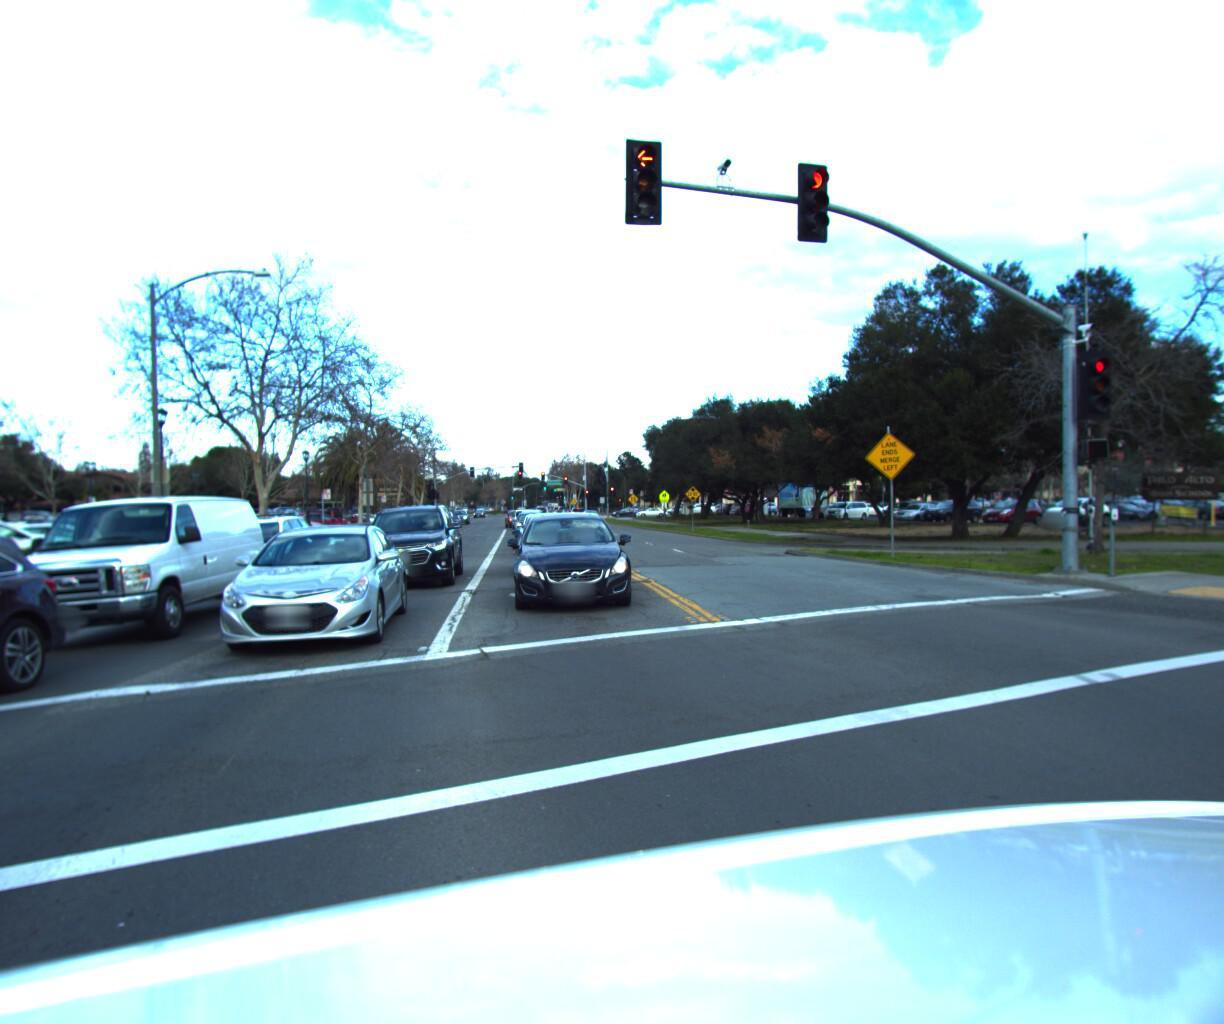car: (0, 490, 281, 665), (185, 517, 413, 667), (0, 516, 86, 869), (500, 506, 651, 616), (169, 508, 324, 605), (345, 499, 462, 597), (0, 516, 142, 569), (510, 507, 612, 579), (0, 513, 90, 582), (522, 506, 585, 558), (249, 507, 334, 540), (288, 507, 356, 533), (517, 504, 553, 533)
